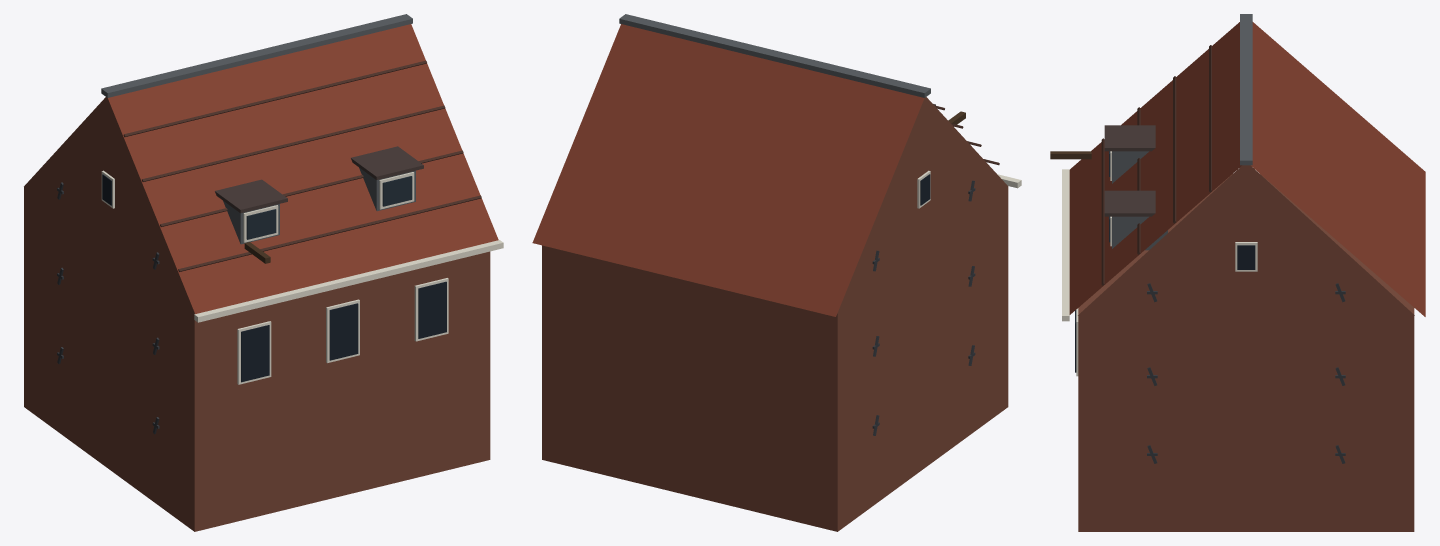
The model's file is dakhuis_steil.glb.
3 renders of one model, left to right at view 1: azimuth 30°, elevation 25°; view 2: azimuth 150°, elevation 25°; view 3: azimuth 270°, elevation 25°, orthographic.
Visible parts, largest first — view 1: dakhuis_steil; view 2: dakhuis_steil; view 3: dakhuis_steil.
Part boxes in pixels (box(x1,y1,x2,y2)): dakhuis_steil: box(24, 14, 503, 531); dakhuis_steil: box(532, 14, 1021, 531); dakhuis_steil: box(1050, 14, 1425, 531).
Size of the model in its own units: 9.3 by 11.05 by 10.05.
